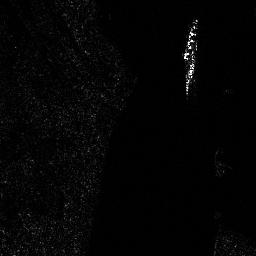ship: (182, 16, 198, 60)
